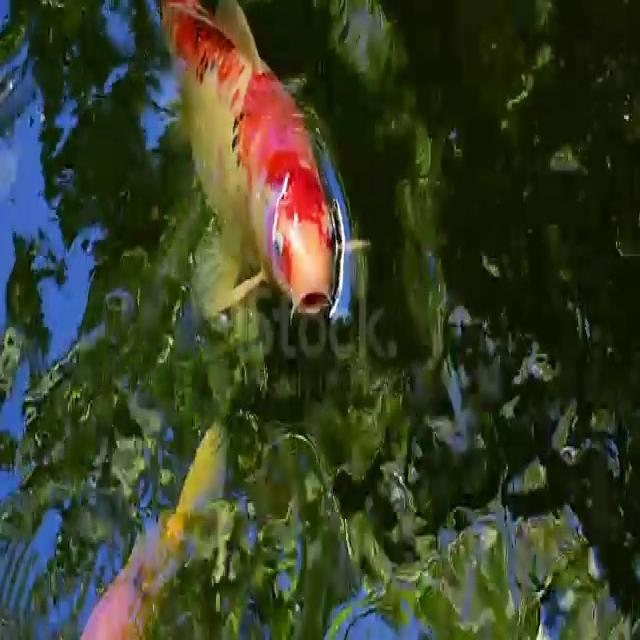fish: (151, 0, 372, 338), (85, 402, 246, 640)
